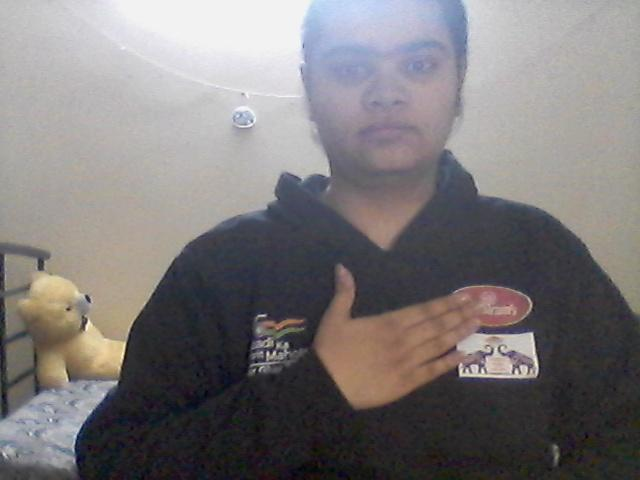please: (301, 248, 484, 416)
